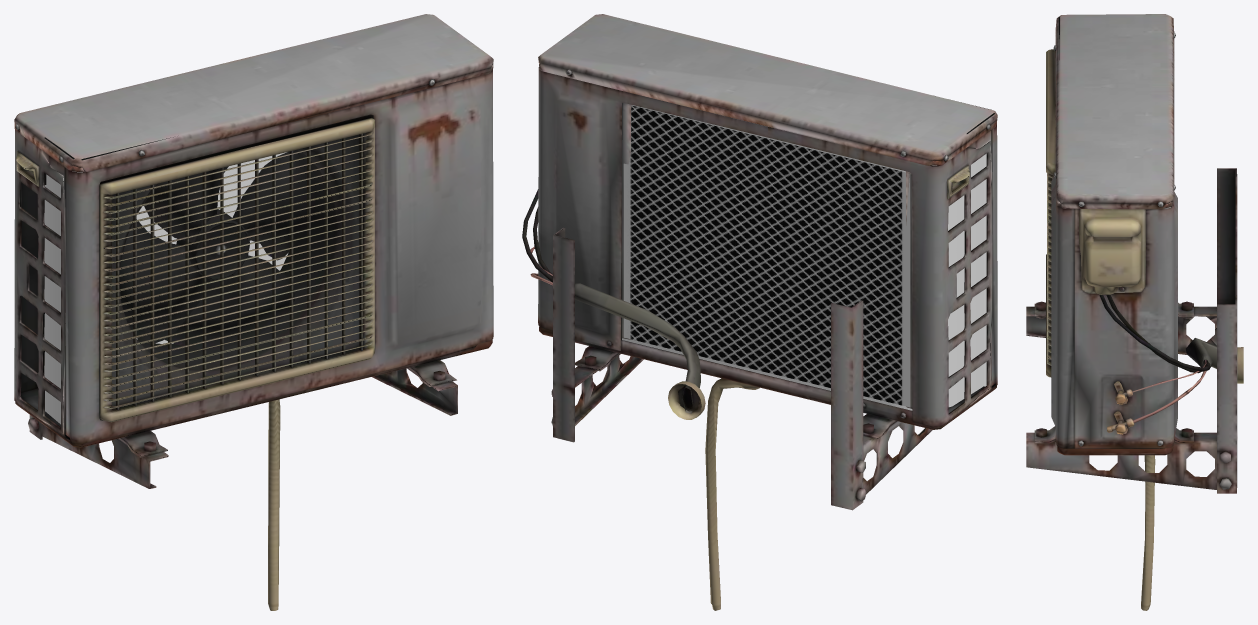
File: exterior_aircon_unit.glb
The picture shows the model from 3 angles, left to right: view 1: azimuth 30°, elevation 25°; view 2: azimuth 150°, elevation 25°; view 3: azimuth 270°, elevation 25°; orthographic projection. The views are drawn at different scales.
Visible parts, largest first — view 1: exterior_aircon_unit_rusted; view 2: exterior_aircon_unit_rusted; view 3: exterior_aircon_unit_rusted.
Boxes of the visible parts, x1,y1,x2,y2 form: exterior_aircon_unit_rusted: [14, 14, 493, 610]; exterior_aircon_unit_rusted: [522, 14, 997, 610]; exterior_aircon_unit_rusted: [1026, 14, 1243, 610].
Size of the model in its own units: 0.7994 by 0.9279 by 0.3742.
Materials: 2 (2 with a texture image).
